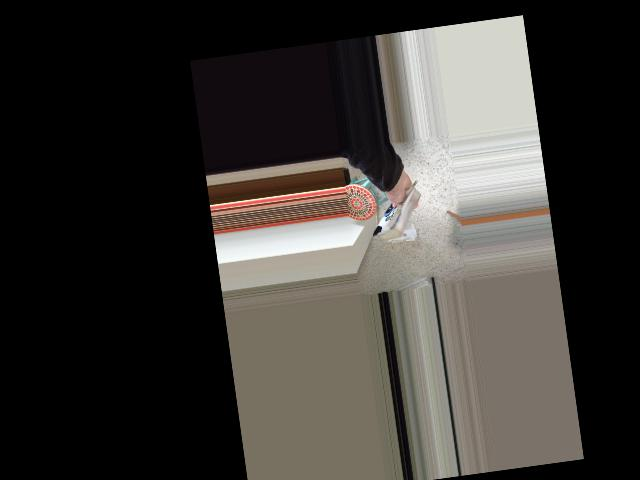cheese: (356, 169, 433, 252)
